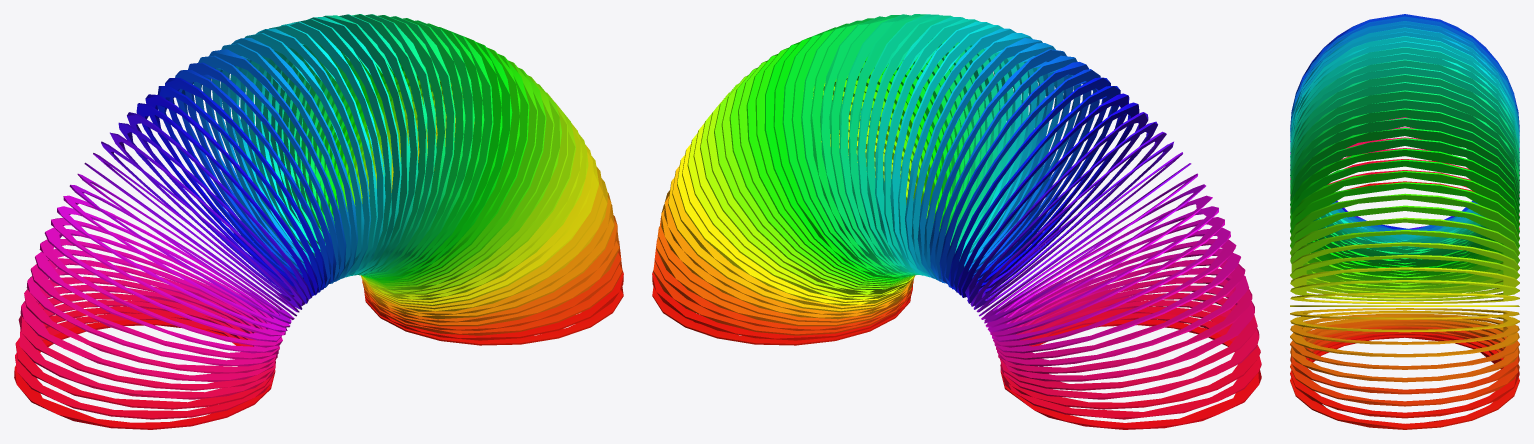
The model's file is hw_pop_slinky.glb.
The picture shows the model from 3 angles, left to right: view 1: azimuth 30°, elevation 25°; view 2: azimuth 150°, elevation 25°; view 3: azimuth 270°, elevation 25°; orthographic projection. The views are drawn at different scales.
Visible parts, largest first — view 1: Ring37_SlinkySub_0; view 2: Ring37_SlinkySub_0; view 3: Ring37_SlinkySub_0.
Boxes of the visible parts, x1,y1,x2,y2 form: Ring37_SlinkySub_0: (14,14,623,429); Ring37_SlinkySub_0: (652,14,1261,429); Ring37_SlinkySub_0: (1290,14,1519,429).
Bounding box in the file's own units: 50.8 × 25.5 × 20.
1 material, 1 textured.
